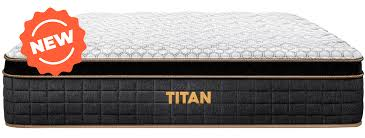bed-matress: (2, 11, 365, 129)
